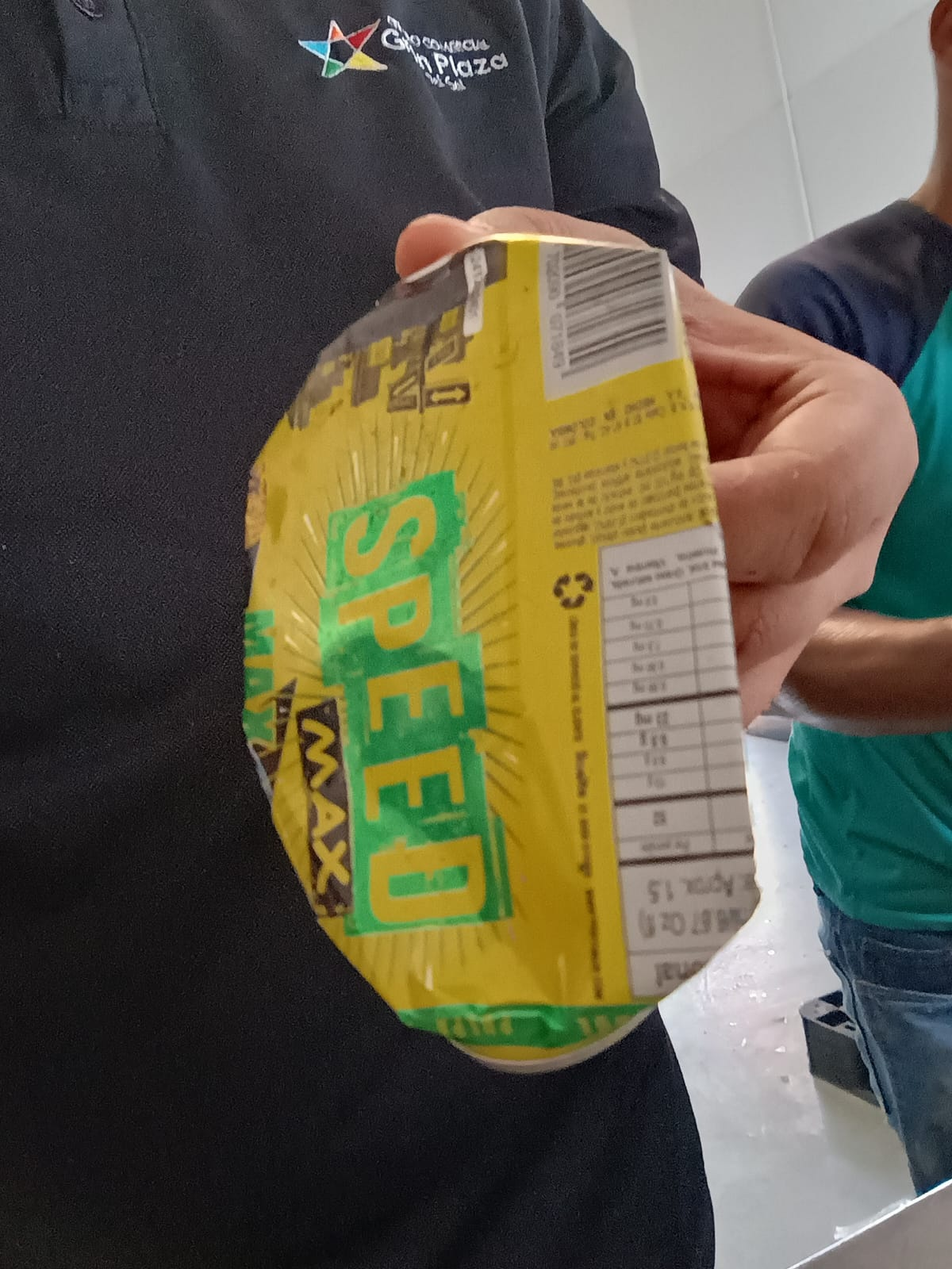Metal: (237, 237, 763, 1076)
